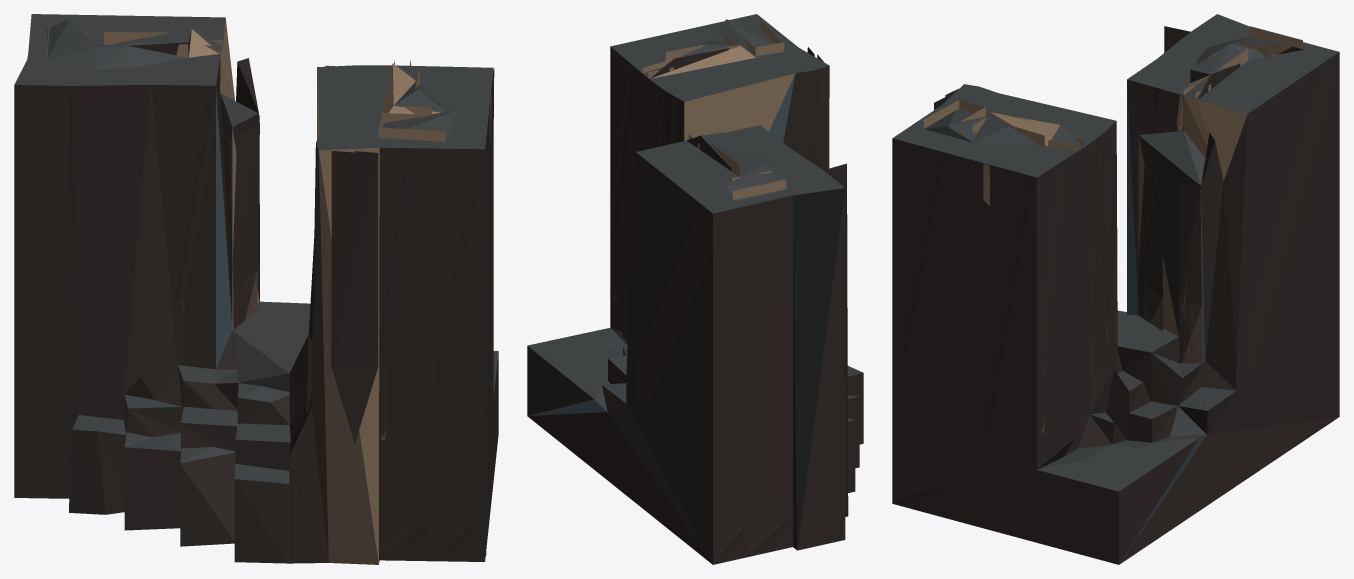
The model's file is grasweg-116.lod2.glb.
The picture shows the model from 3 angles, left to right: view 1: azimuth 30°, elevation 25°; view 2: azimuth 150°, elevation 25°; view 3: azimuth 270°, elevation 25°; orthographic projection. The views are drawn at different scales.
Visible parts, largest first — view 1: lod2; view 2: lod2; view 3: lod2.
Boxes of the visible parts, <box> form: lod2: <box>14,14,498,564</box>; lod2: <box>527,14,863,564</box>; lod2: <box>892,14,1339,564</box>.
Size of the model in its own units: 52.25 by 49.97 by 53.31.
